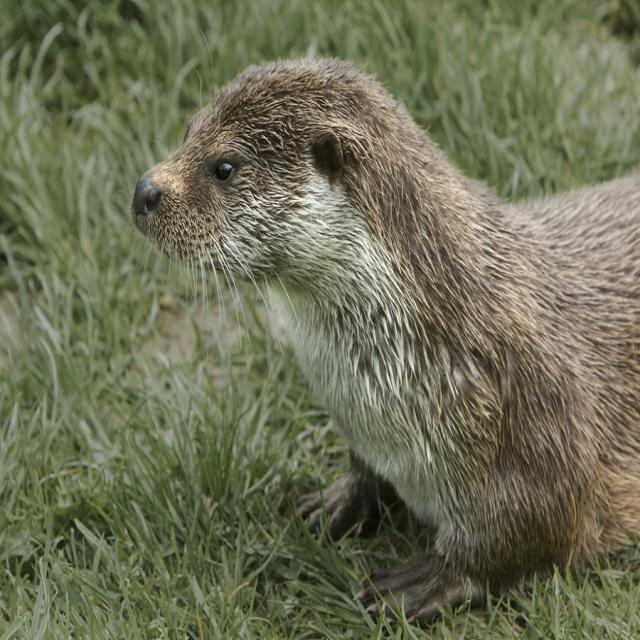otter: (131, 63, 640, 577)
